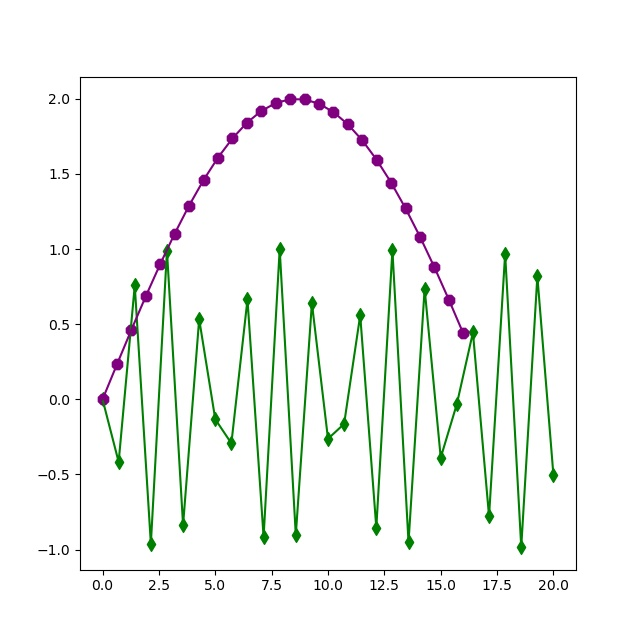octagon: (97, 393, 110, 406), (111, 358, 124, 371), (125, 324, 138, 337), (140, 290, 153, 303), (154, 258, 167, 271), (169, 228, 182, 241), (183, 200, 196, 213), (198, 174, 211, 187), (212, 152, 225, 165), (226, 132, 239, 145), (241, 117, 254, 130), (255, 105, 268, 118), (270, 97, 283, 110), (284, 93, 297, 106), (299, 93, 312, 106), (313, 98, 326, 111), (327, 106, 340, 119), (342, 118, 355, 131), (356, 134, 369, 147), (371, 154, 384, 167), (385, 177, 398, 190), (400, 202, 413, 215), (414, 231, 427, 244), (428, 261, 441, 274), (443, 294, 456, 307), (457, 327, 470, 340)
thin_diamond: (97, 394, 109, 406), (113, 456, 125, 468), (129, 280, 141, 292), (145, 538, 157, 550), (161, 245, 173, 257), (178, 520, 190, 532), (194, 314, 206, 326), (210, 414, 222, 426), (226, 438, 238, 450), (242, 294, 254, 306), (258, 531, 270, 543), (274, 244, 286, 256), (290, 529, 302, 541), (306, 298, 318, 310), (322, 433, 334, 445), (339, 418, 351, 430), (355, 310, 367, 322), (371, 522, 383, 534), (387, 245, 399, 257), (403, 537, 415, 549), (419, 283, 431, 295), (435, 452, 447, 464), (451, 399, 463, 411), (467, 327, 479, 339), (484, 511, 496, 523), (500, 248, 512, 260), (516, 542, 528, 554), (532, 271, 544, 283), (548, 470, 560, 482)
